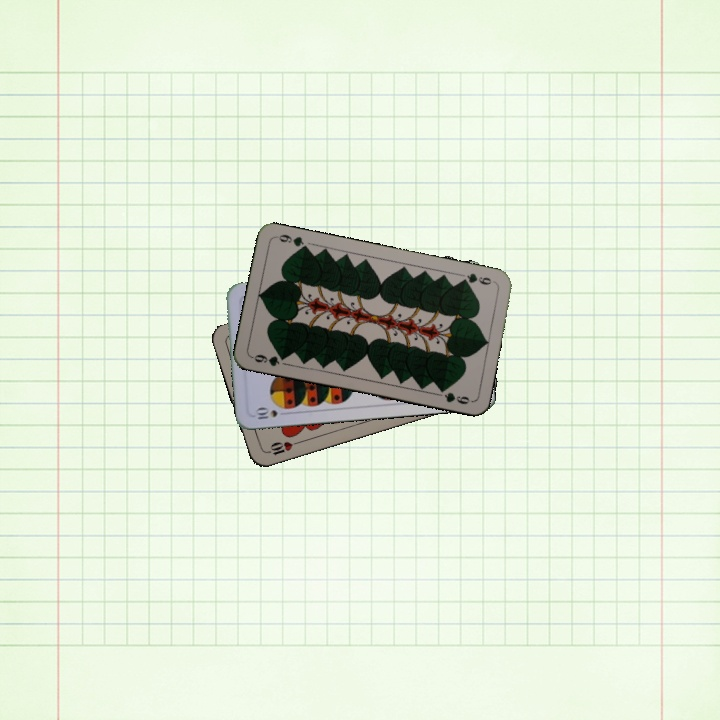G9: (248, 350, 289, 369), (456, 269, 497, 287)
H10: (262, 437, 302, 458)
S10: (250, 404, 291, 422)
